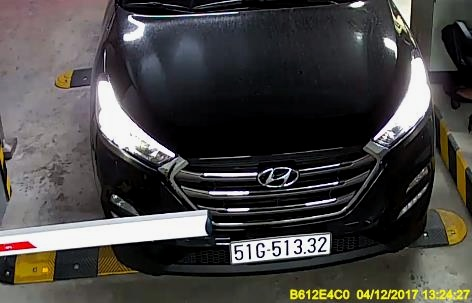plate: (231, 233, 330, 262)
